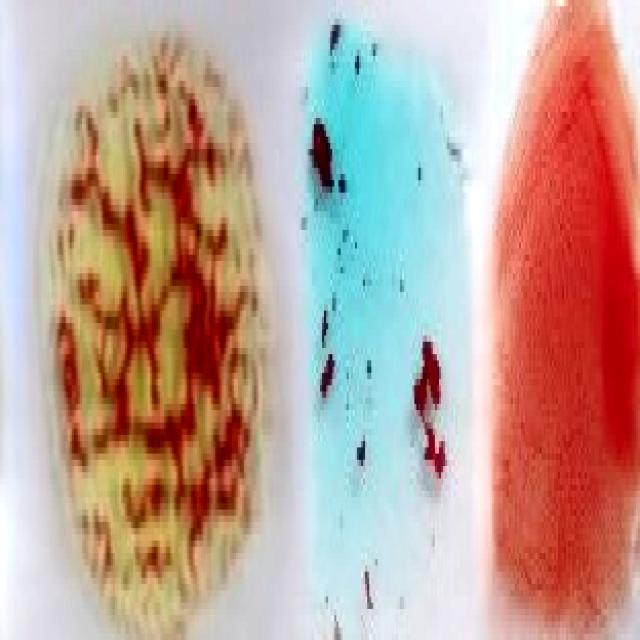A: (302, 41, 459, 640)
B: (49, 31, 260, 640)
D: (484, 0, 640, 640)
